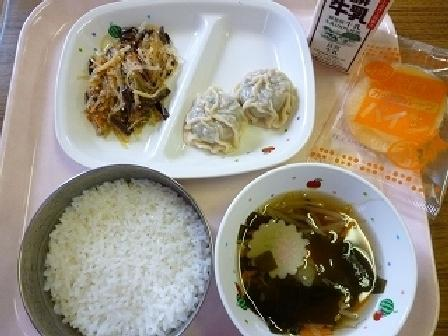Milk: (302, 0, 402, 74)
Rice: (19, 166, 215, 335)
Soups: (227, 176, 404, 335)
manty: (182, 65, 296, 168)
salad with sauce: (72, 16, 183, 145)
